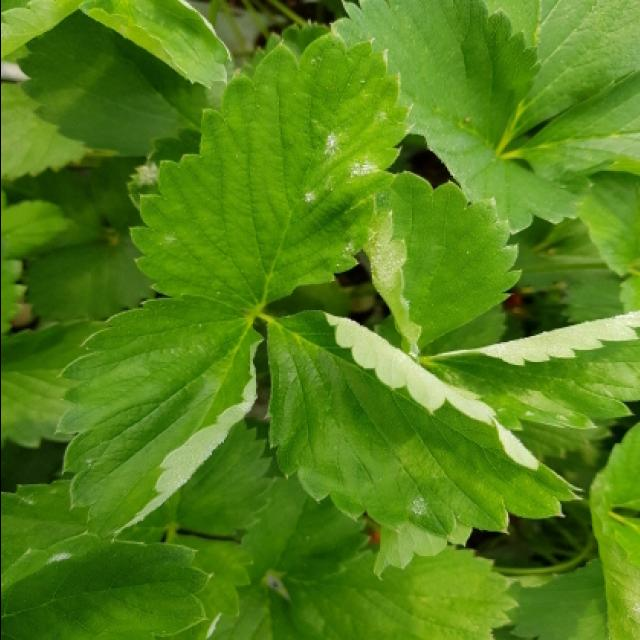Powdery Mildew Leaf: (128, 28, 417, 313), (265, 307, 583, 538), (54, 294, 264, 541), (357, 169, 522, 360), (419, 309, 640, 434), (2, 529, 212, 638)
